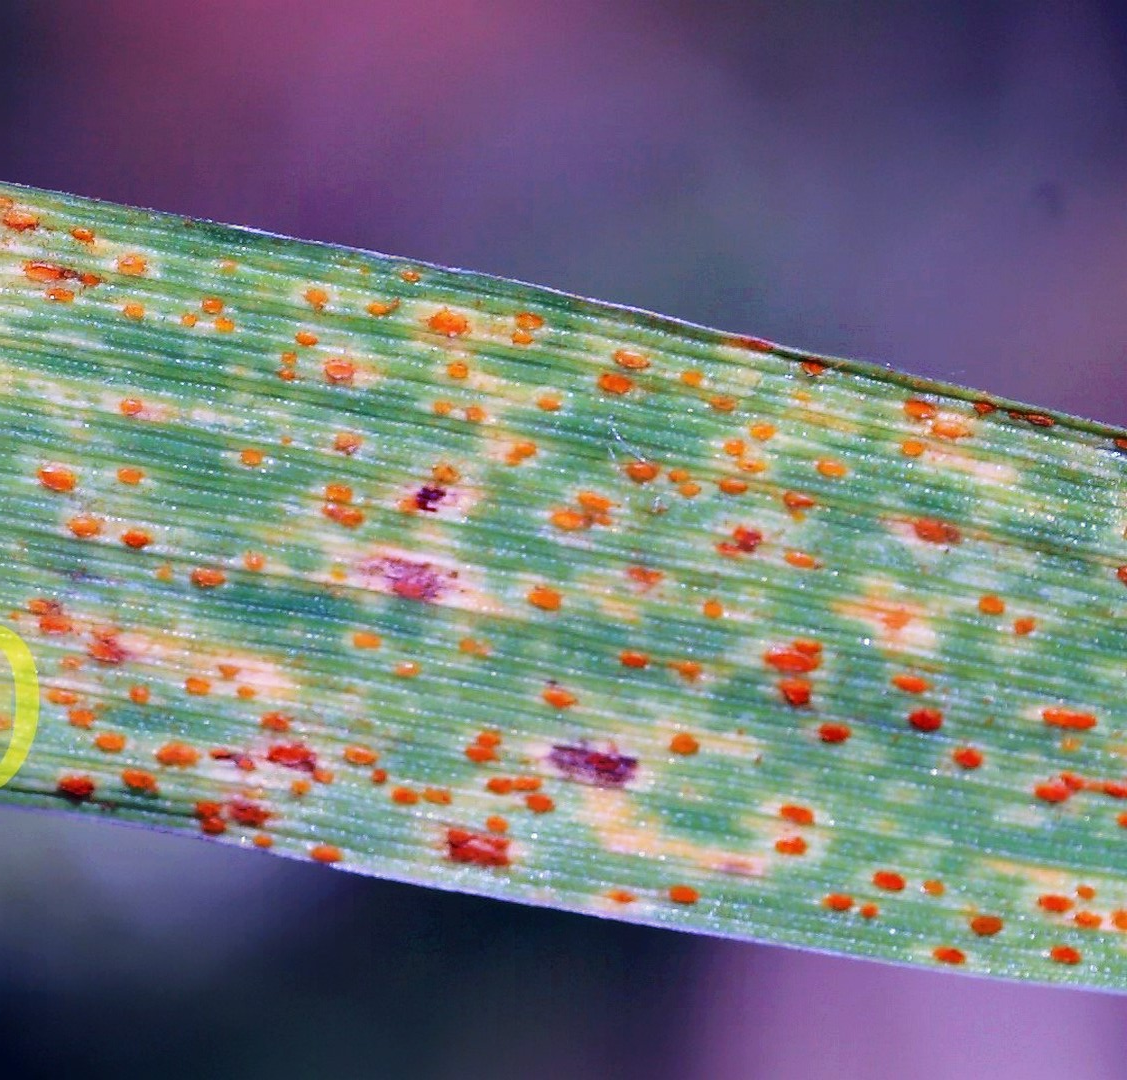Leaf Rust: (42, 256, 1057, 968)
